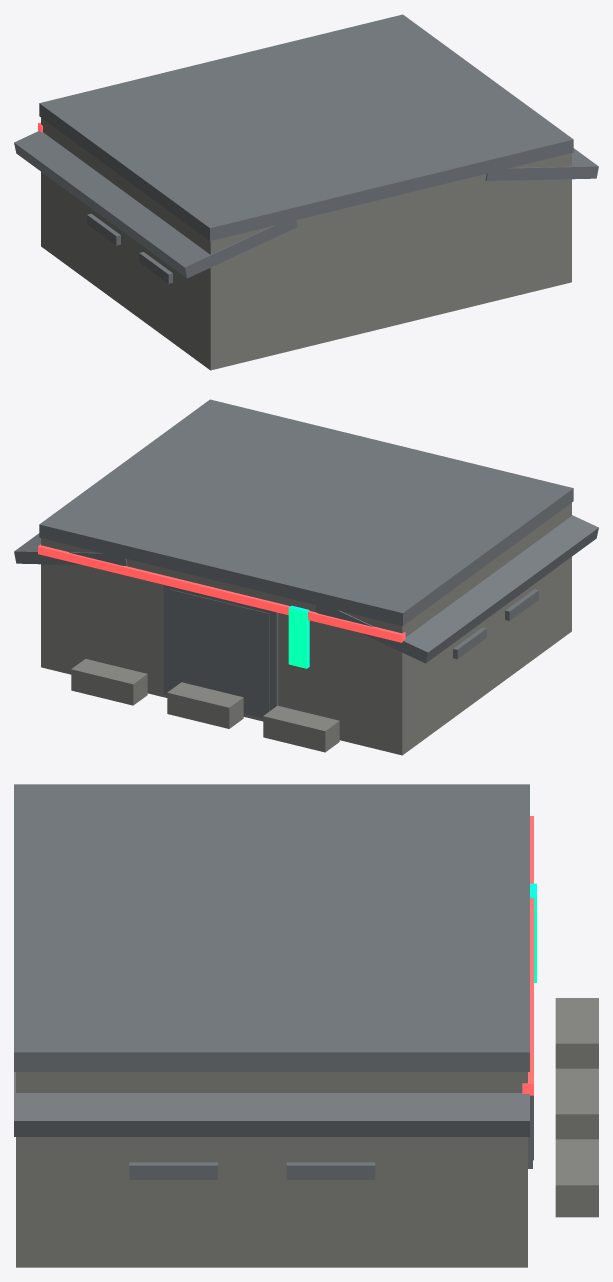
File: crimson_bunker_garrison.glb
3 views of the same model, one above another, from view 1: azimuth 30°, elevation 25°; view 2: azimuth 150°, elevation 25°; view 3: azimuth 270°, elevation 25° (orthographic). The views are drawn at different scales.
Visible parts, largest first — view 1: CrimsonBunkerGarrison; view 2: CrimsonBunkerGarrison; view 3: CrimsonBunkerGarrison.
Boxes of the visible parts, <box> form: CrimsonBunkerGarrison: <box>14,14,598,370</box>; CrimsonBunkerGarrison: <box>14,399,598,755</box>; CrimsonBunkerGarrison: <box>14,784,598,1267</box>.
Size of the model in its own units: 3.67 by 1.21 by 2.97.
